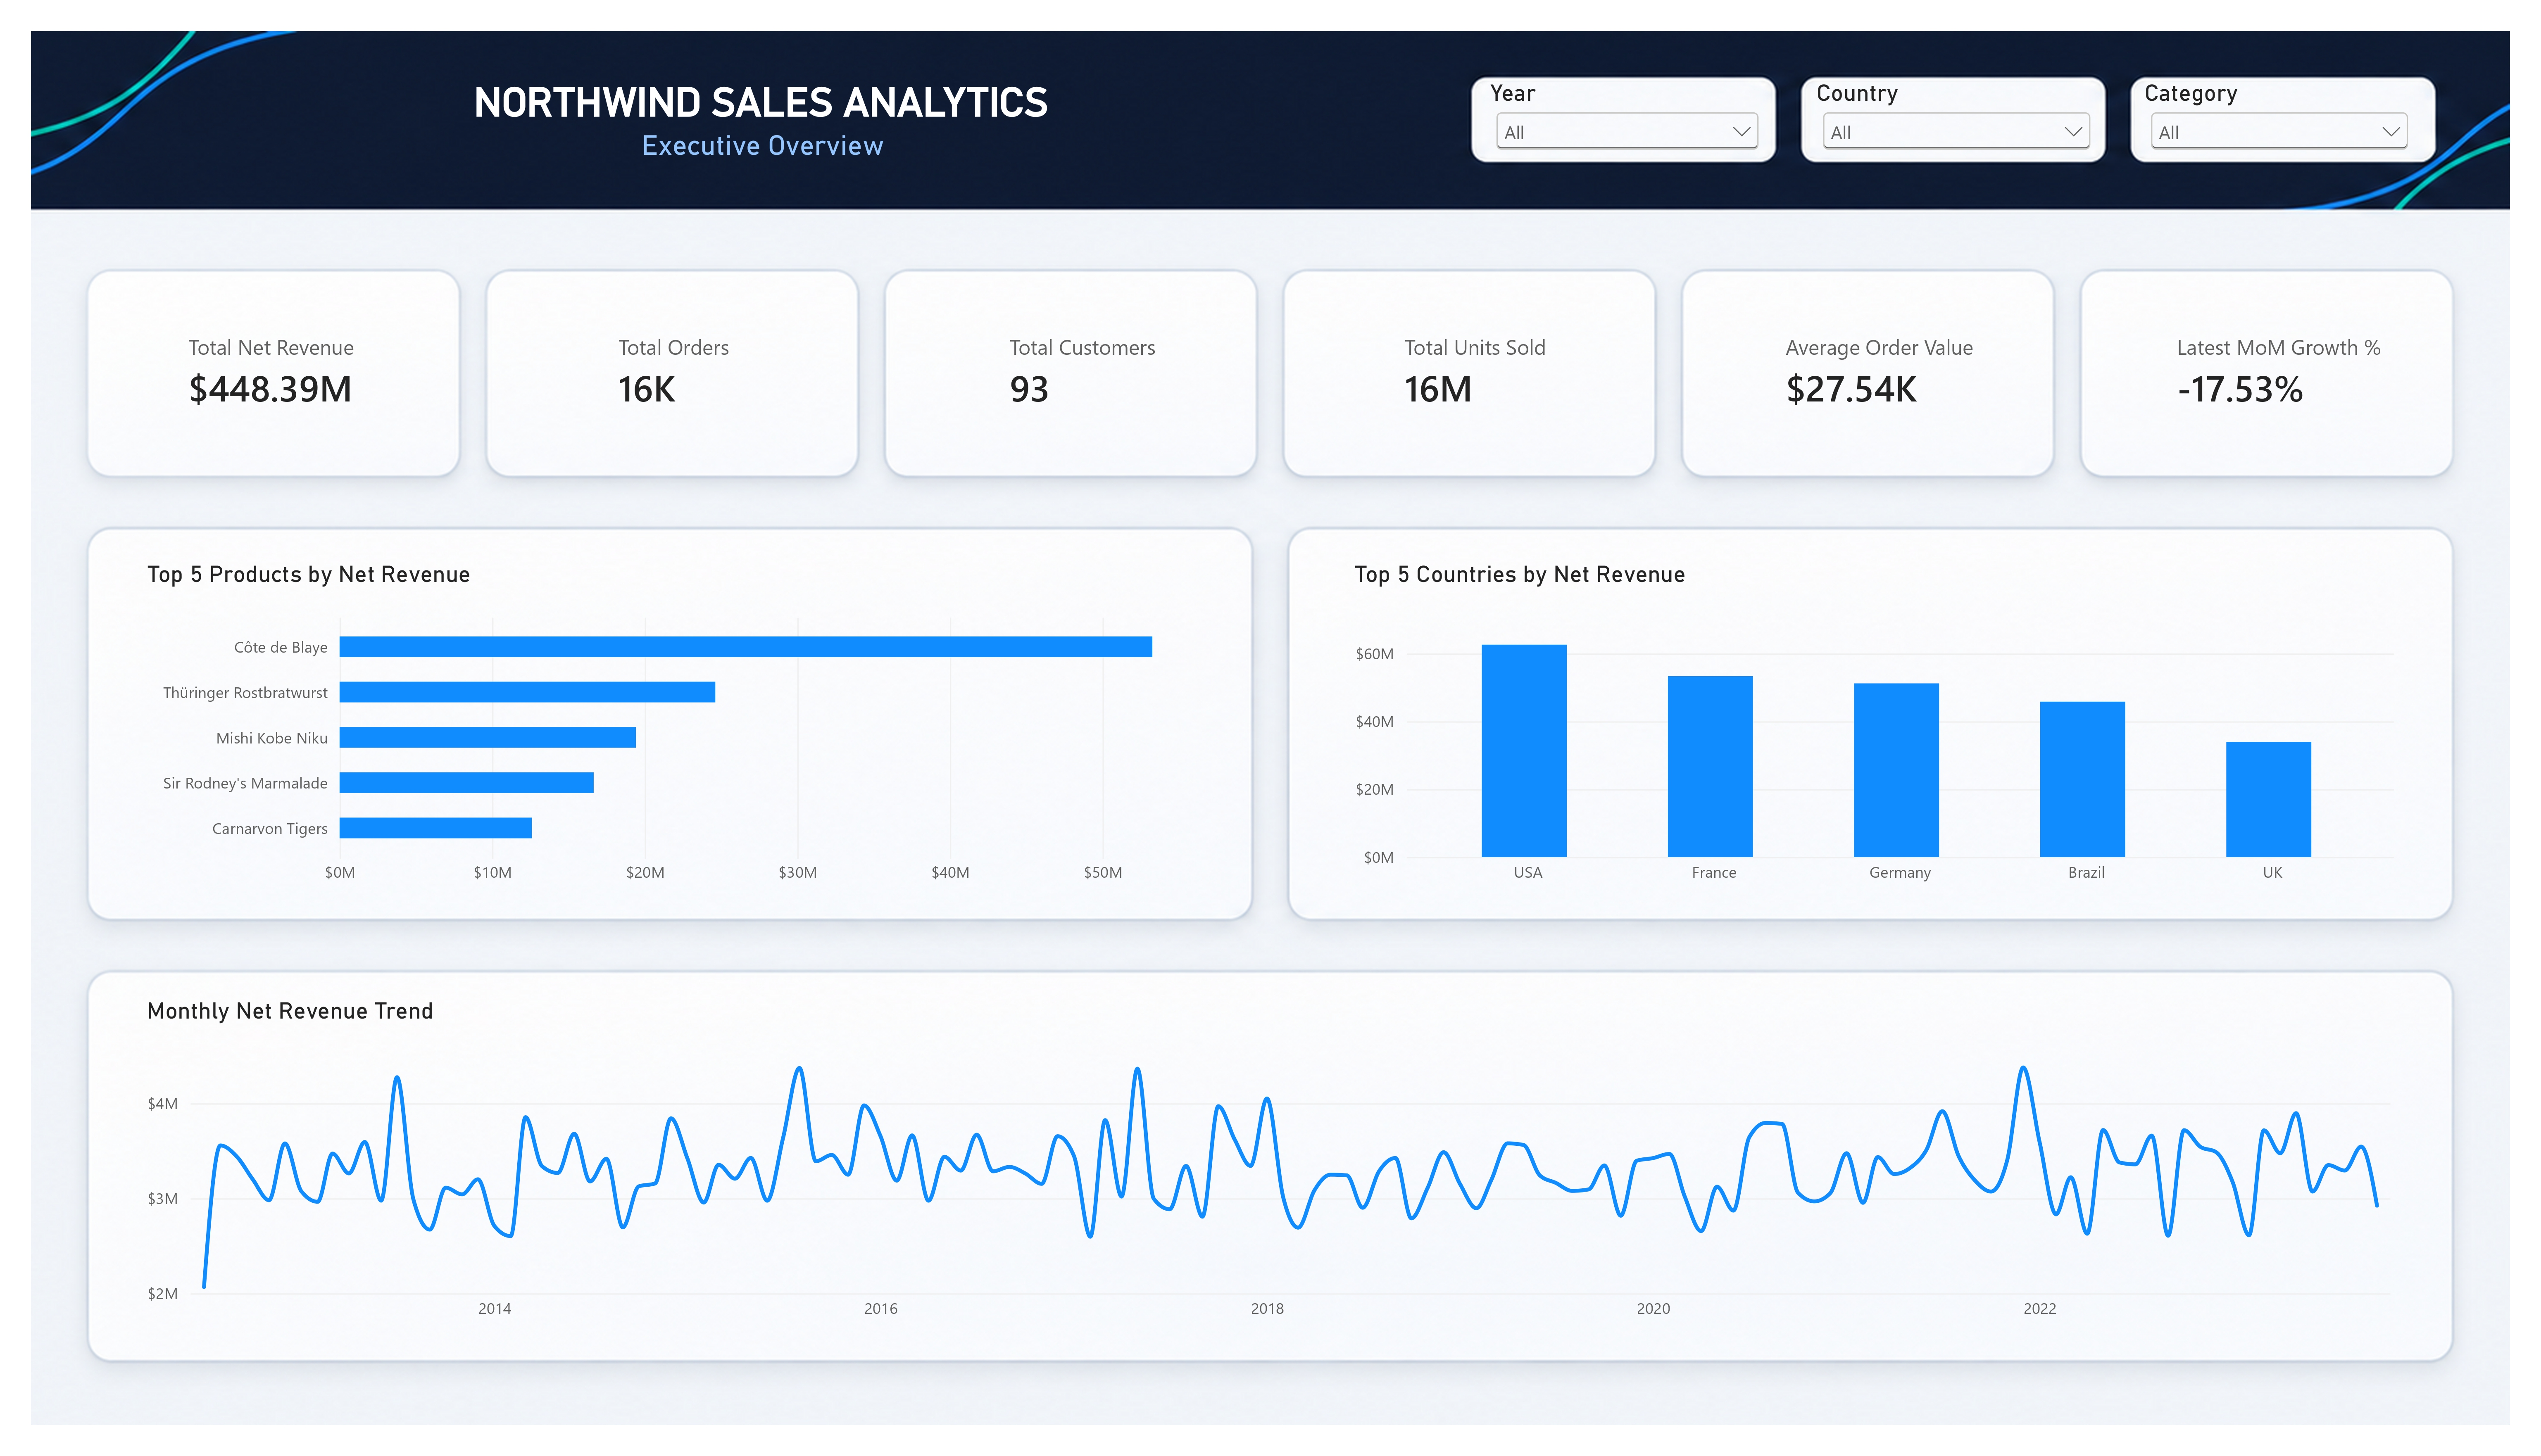

Layout of this report page (visuals, bound fields, positions):
{"tool":"powerbi","page":{"name":"Executive Overview","canvas":[1920,1080],"ordinal":0},"visuals":[{"type":"cardVisual","fields":{"Data":["_Measures.Total Net Revenue"]},"box":[105.7,195.7,178,138],"z":0},{"type":"cardVisual","fields":{"Data":["_Measures.Total Orders"]},"box":[438.9,195.6,134,138],"z":1000},{"type":"cardVisual","fields":{"Data":["_Measures.Total Units Sold"]},"box":[1047.8,195.6,164,138],"z":2000},{"type":"cardVisual","fields":{"Data":["_Measures.Average Order Value"]},"box":[1343.3,195.6,194,138],"z":3000},{"type":"lineChart","title":"Monthly Net Revenue Trend","fields":{"Category":["DimDate.Month Start"],"Y":["_Measures.Total Net Revenue"]},"box":[74.3,734.3,1771.4,284.3],"z":4000},{"type":"cardVisual","fields":{"Data":["_Measures.Latest MoM Growth %"]},"box":[1645.7,195.7,192,138],"z":5000},{"type":"barChart","title":"Top 5 Products by Net Revenue","fields":{"Category":["DimProduct.ProductName"],"Y":["_Measures.Total Net Revenue"]},"box":[74.3,395.7,847.1,285.7],"z":6000},{"type":"clusteredColumnChart","title":"Top 5 Countries by Net Revenue","fields":{"Category":["DimCustomer.CustomerCountry"],"Y":["_Measures.Total Net Revenue"]},"box":[1008.6,395.7,837.1,285.7],"z":7000},{"type":"cardVisual","fields":{"Data":["_Measures.Total Customers"]},"box":[742.2,195.6,160,138],"z":8000},{"type":"slicer","title":"Year","fields":{"Values":["DimDate.Year"]},"box":[1130,37.1,212.9,94.3],"z":9000},{"type":"slicer","title":"Country","fields":{"Values":["DimCustomer.CustomerCountry"]},"box":[1382.9,37.1,217.1,77.1],"z":10000},{"type":"slicer","title":"Category","fields":{"Values":["DimProduct.CategoryName"]},"box":[1637.1,37.1,208.6,77.1],"z":11000},{"type":"textbox","title":"Executive Overview","box":[472.9,75.7,218.3,35],"z":12000},{"type":"textbox","title":"NORTHWIND SALES ANALYTICS","box":[343.3,36.7,478.3,38.3],"z":13000}]}

Visuals, with their boxes on the page's 1920x1080 design canvas (x1, y1, x2, y2). These are canvas units, not pixel positions in the 2541x1456 screenshot, which may show the page scaled, cropped or inside an application window:
cardVisual - _Measures.Total Net Revenue: bbox=(106, 196, 284, 334)
cardVisual - _Measures.Total Orders: bbox=(439, 196, 573, 334)
cardVisual - _Measures.Total Units Sold: bbox=(1048, 196, 1212, 334)
cardVisual - _Measures.Average Order Value: bbox=(1343, 196, 1537, 334)
"Monthly Net Revenue Trend" lineChart: bbox=(74, 734, 1846, 1019)
cardVisual - _Measures.Latest MoM Growth %: bbox=(1646, 196, 1838, 334)
"Top 5 Products by Net Revenue" barChart: bbox=(74, 396, 921, 681)
"Top 5 Countries by Net Revenue" clusteredColumnChart: bbox=(1009, 396, 1846, 681)
cardVisual - _Measures.Total Customers: bbox=(742, 196, 902, 334)
"Year" slicer: bbox=(1130, 37, 1343, 131)
"Country" slicer: bbox=(1383, 37, 1600, 114)
"Category" slicer: bbox=(1637, 37, 1846, 114)
"Executive Overview" textbox: bbox=(473, 76, 691, 111)
"NORTHWIND SALES ANALYTICS" textbox: bbox=(343, 37, 822, 75)
